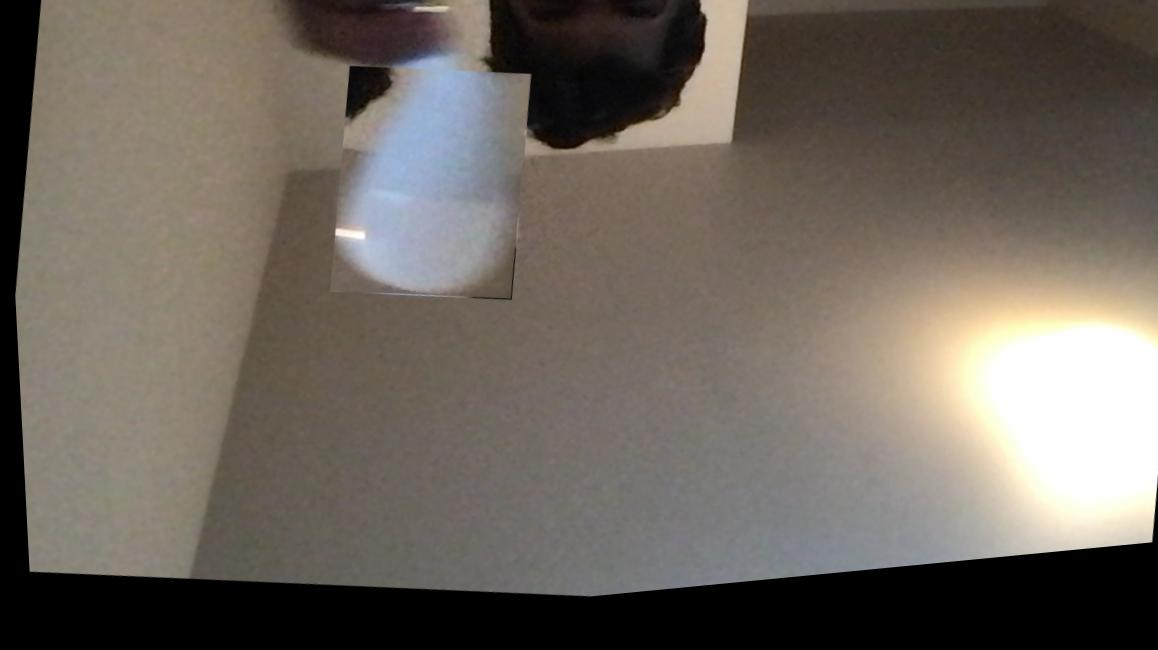Fan: (316, 58, 538, 322)
